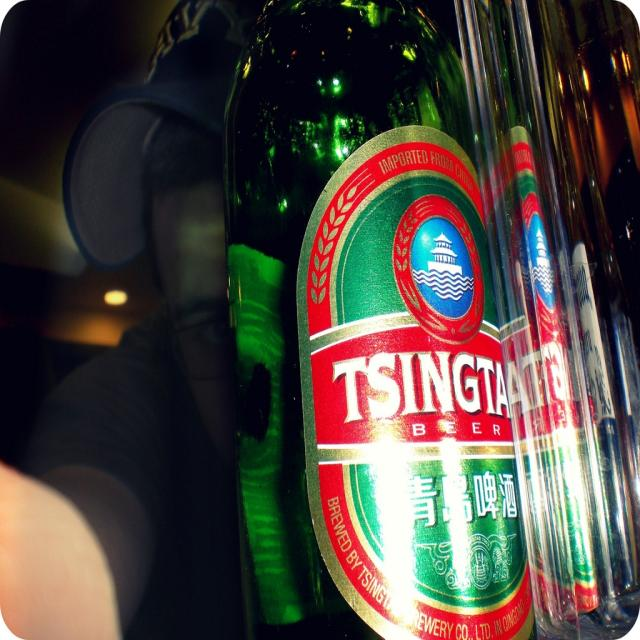tsingtao: (297, 127, 537, 640)
